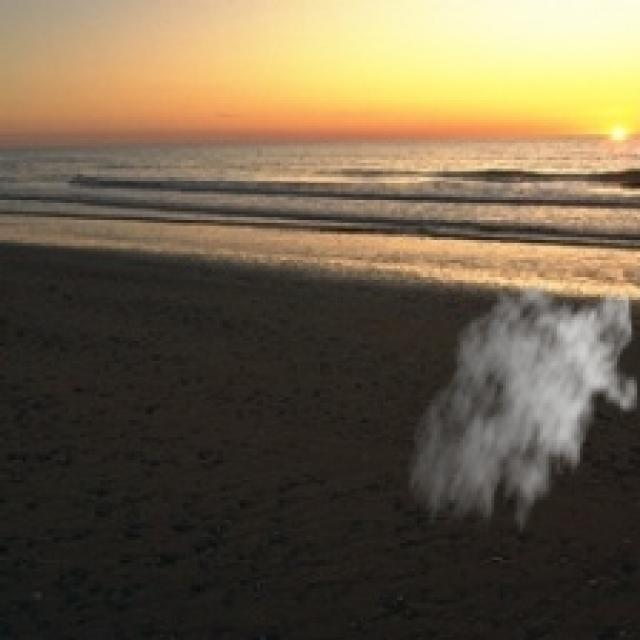Smoke: (406, 274, 638, 549)
